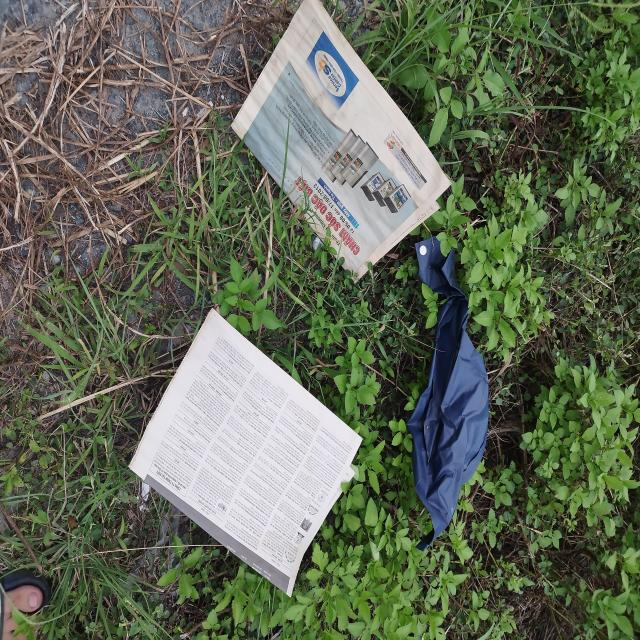clothes: (407, 236, 489, 551)
paper: (128, 308, 364, 598), (230, 0, 451, 283)
